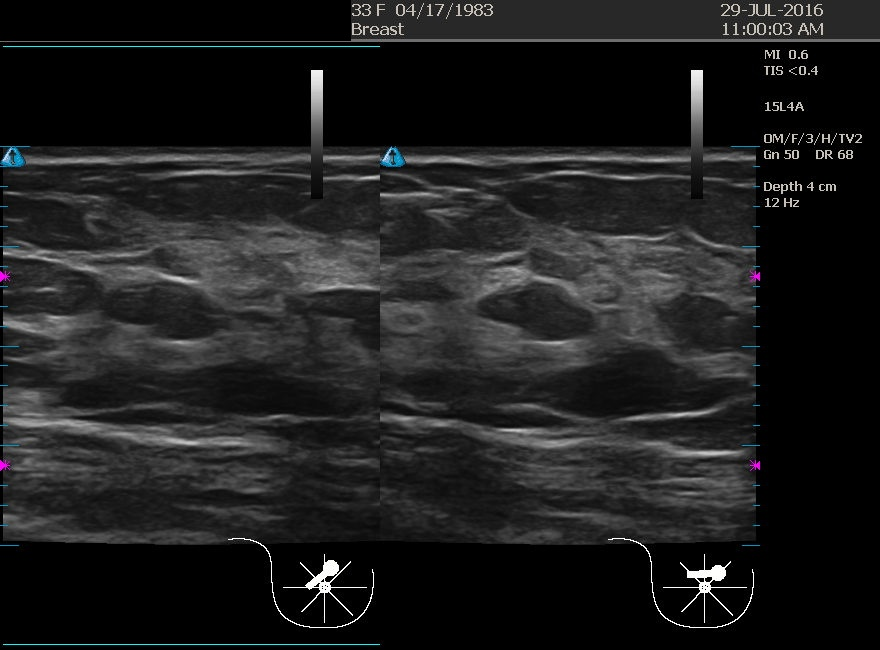Benign: (73, 202, 273, 402), (433, 197, 633, 397)
